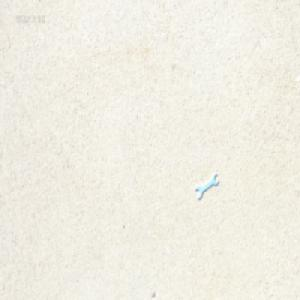Wrench: (194, 169, 218, 196)
